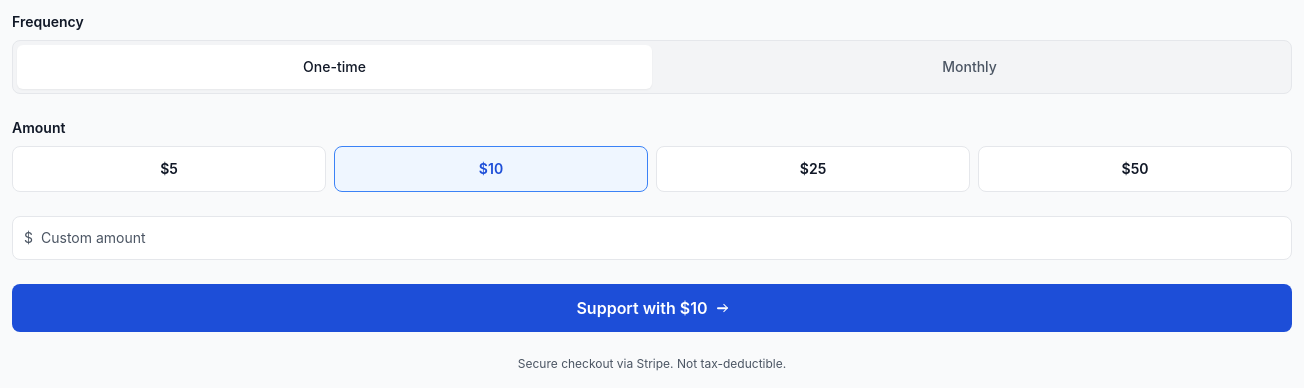
Test: SupportTiers › exposes frequency and amount selection state
Click the button "Monthly" at x=970, y=67, box [652, 45, 1287, 89]
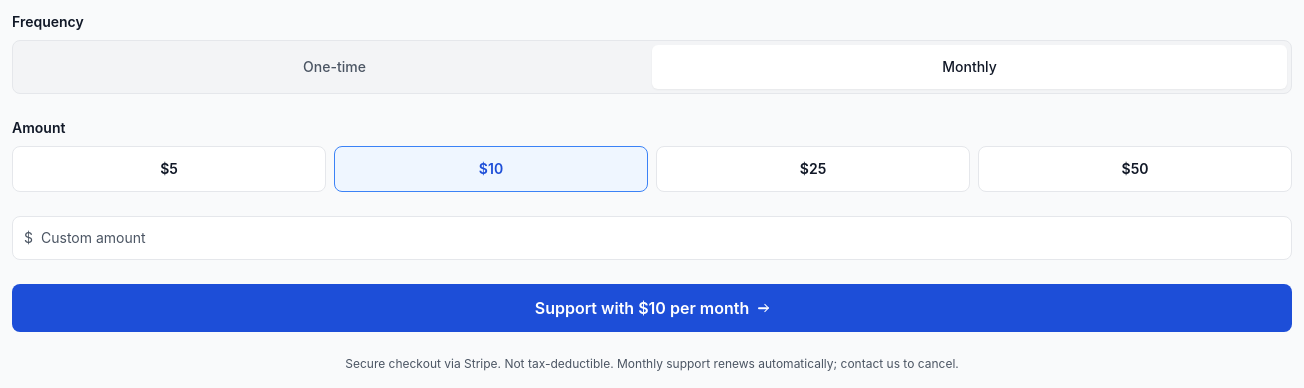
Check: the button "Monthly" is pressed, box [652, 45, 1287, 89]
Click the button "$25" at x=813, y=169, box [656, 146, 970, 192]
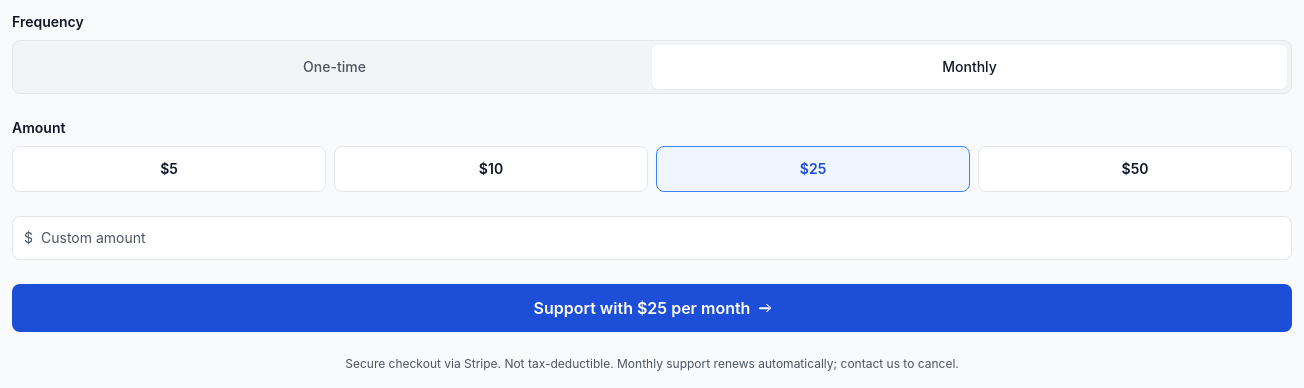
Check: the button "Support with $25 per month" is shown, box [12, 284, 1292, 332]
